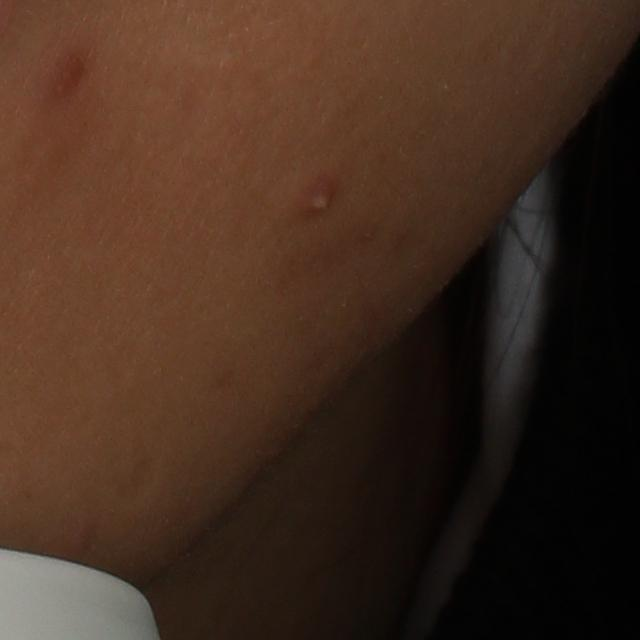pustule: (290, 171, 346, 224)
